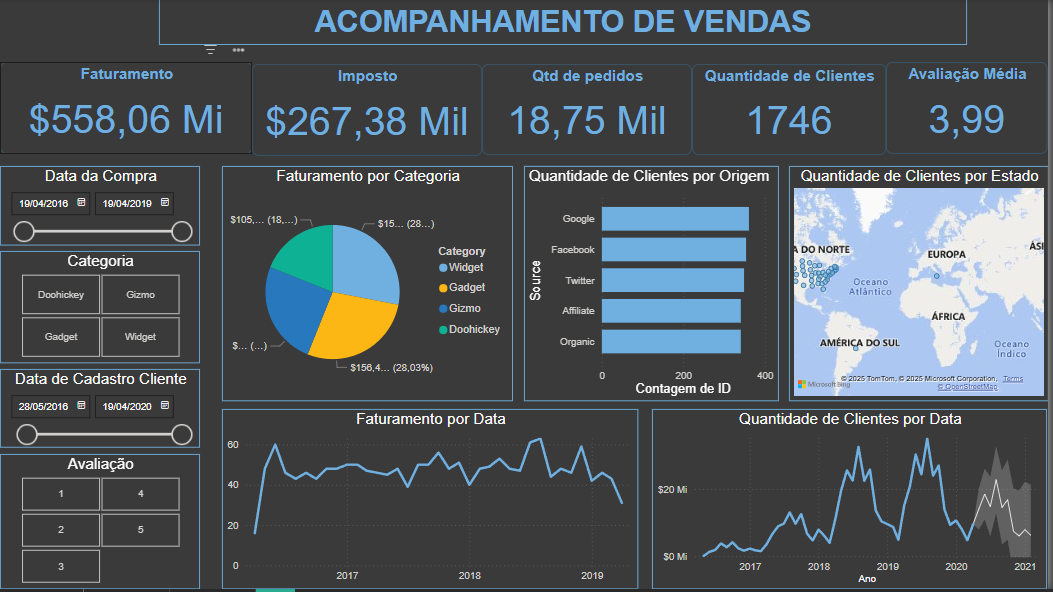

This screenshot's page, from the dashboard's own definition file:
{"tool":"powerbi","page":{"name":"Página 1","canvas":[1280,720],"ordinal":0},"visuals":[{"type":"card","title":"Faturamento","fields":{"Values":["Sum(Orders.Faturamento)"]},"box":[0,77.3,307.9,112.2],"z":0},{"type":"card","title":"Quantidade de Clientes","fields":{"Values":["CountNonNull(People.ID)"]},"box":[844.7,78.9,236.6,110.7],"z":1000},{"type":"card","title":"Qtd de pedidos","fields":{"Values":["CountNonNull(Orders.ID)"]},"box":[588.4,78.9,256.3,110.7],"z":2000},{"type":"slicer","title":"Data de Cadastro Cliente","fields":{"Values":["Orders.Created At"]},"box":[0,452.1,244.2,95.5],"z":3000},{"type":"lineChart","title":"Quantidade de Clientes por Data","fields":{"Category":["Orders.Created At.Variation.Hierarquia de datas.Ano","Orders.Created At.Variation.Hierarquia de datas.Mês","Orders.Created At.Variation.Hierarquia de datas.Dia"],"Y":["Sum(Orders.Faturamento)"]},"box":[796.2,500.5,482.3,219.9],"z":4000},{"type":"pieChart","title":"Faturamento por Categoria","fields":{"Y":["Sum(Orders.Faturamento)"],"Category":["Products.Category"]},"box":[271.5,203.2,354.9,286.6],"z":5000},{"type":"lineChart","title":"Faturamento por Data","fields":{"Category":["People.Created At.Variation.Hierarquia de datas.Ano","People.Created At.Variation.Hierarquia de datas.Mês"],"Y":["CountNonNull(People.ID)"]},"box":[271.5,500.5,508.1,219.9],"z":6000},{"type":"slicer","title":"Data da Compra","fields":{"Values":["People.Created At"]},"box":[0,203.2,244.2,97.1],"z":7000},{"type":"map","title":"Quantidade de Clientes por Estado","fields":{"Category":["People.Estado"]},"box":[963,203.2,317,286.6],"z":8000},{"type":"barChart","title":"Quantidade de Clientes por Origem","fields":{"Category":["People.Source"],"Y":["CountNonNull(People.ID)"]},"box":[640,203.2,310.9,286.6],"z":9000},{"type":"card","title":"Imposto","fields":{"Values":["Sum(Orders.Imposto)"]},"box":[307.9,78.9,280.6,112.2],"z":10000},{"type":"card","title":"Avaliação Média","fields":{"Values":["Avg(Reviews.Rating)"]},"box":[1081.3,77.3,197.2,112.2],"z":11000},{"type":"slicer","title":"Avaliação","fields":{"Values":["Reviews.Rating"]},"box":[0,554.7,244.2,165.3],"z":12000},{"type":"slicer","title":"Categoria","fields":{"Values":["Products.Category"]},"box":[0,307.5,243.8,137.1],"z":13000},{"type":"textbox","box":[194.1,0,985.8,56.1],"z":14000}]}

Visuals, with their boxes in screenshot pixels (x1, y1, x2, y2), scaled from the page's 1280x720 canvas onto the 1053x592 screenshot:
"Faturamento" card: (x1=0, y1=64, x2=253, y2=156)
"Quantidade de Clientes" card: (x1=695, y1=65, x2=890, y2=156)
"Qtd de pedidos" card: (x1=484, y1=65, x2=695, y2=156)
"Data de Cadastro Cliente" slicer: (x1=0, y1=372, x2=201, y2=450)
"Quantidade de Clientes por Data" lineChart: (x1=655, y1=412, x2=1052, y2=591)
"Faturamento por Categoria" pieChart: (x1=223, y1=167, x2=515, y2=403)
"Faturamento por Data" lineChart: (x1=223, y1=412, x2=641, y2=591)
"Data da Compra" slicer: (x1=0, y1=167, x2=201, y2=247)
"Quantidade de Clientes por Estado" map: (x1=792, y1=167, x2=1052, y2=403)
"Quantidade de Clientes por Origem" barChart: (x1=526, y1=167, x2=782, y2=403)
"Imposto" card: (x1=253, y1=65, x2=484, y2=157)
"Avaliação Média" card: (x1=890, y1=64, x2=1052, y2=156)
"Avaliação" slicer: (x1=0, y1=456, x2=201, y2=591)
"Categoria" slicer: (x1=0, y1=253, x2=201, y2=366)
textbox: (x1=160, y1=0, x2=971, y2=46)
